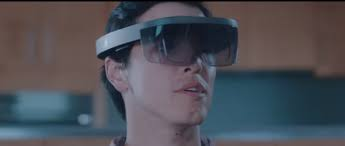hololens: (96, 16, 240, 72)
